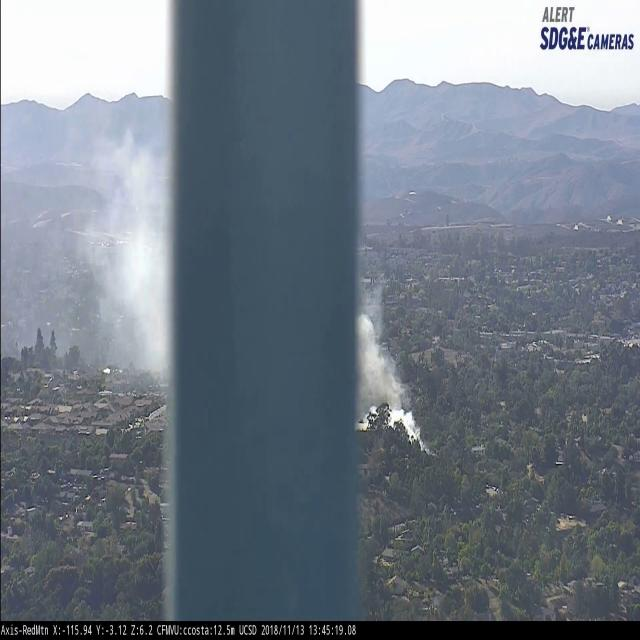smoke: (70, 88, 163, 420), (358, 303, 450, 466)
